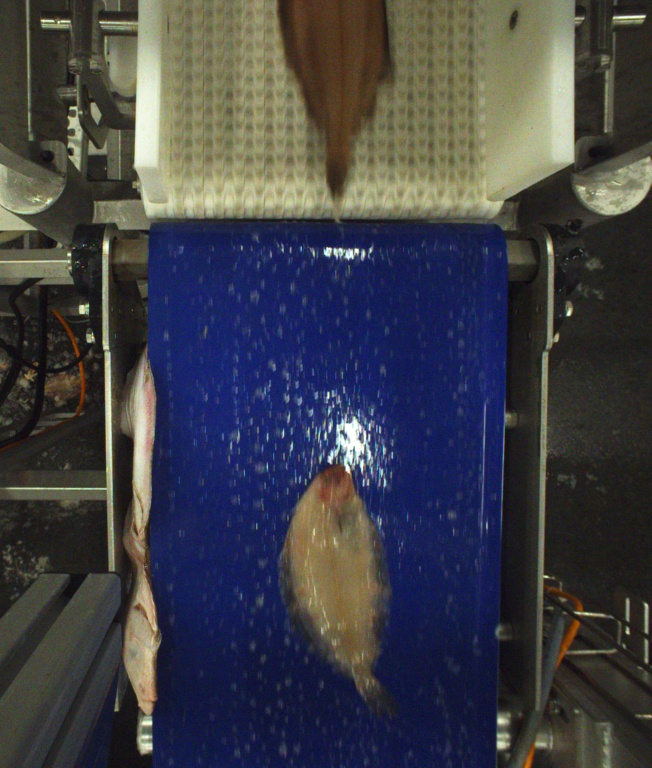WIT: (280, 465, 393, 720)
